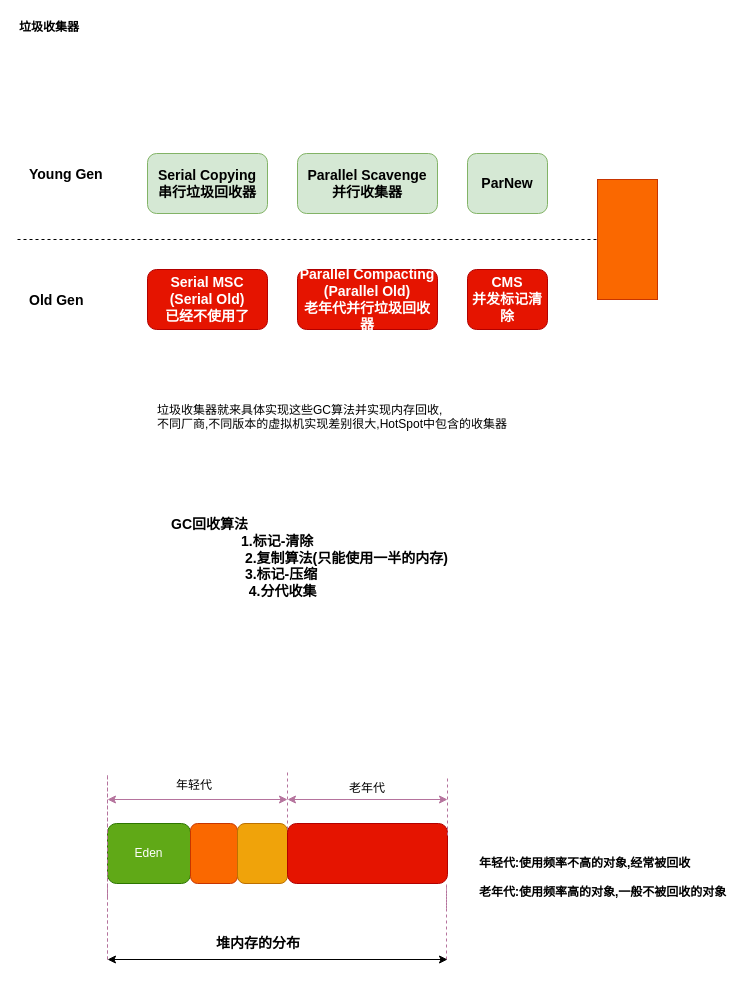
Image size: 755x986. Some labels were removed from this diagram. Each missing label, with the centre of its shape:
"G1" goes at pixel 627 239.
"S0" goes at pixel 214 853.
"S1" goes at pixel 262 853.
"Tenured" goes at pixel 367 853.
